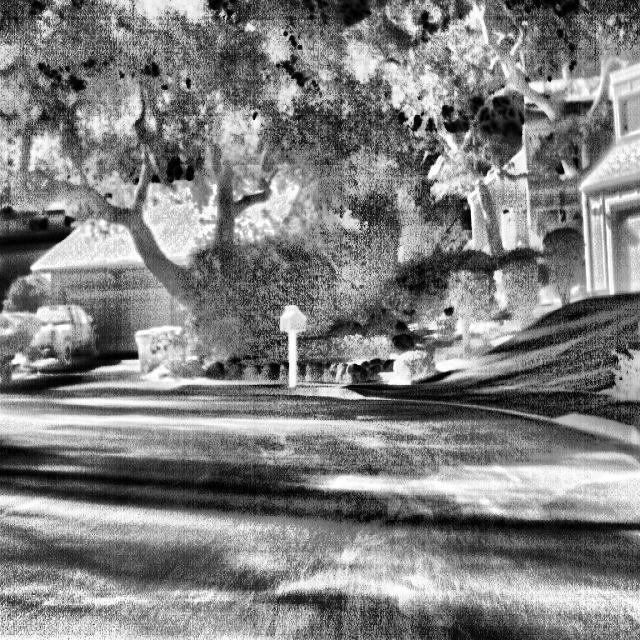car: (28, 294, 108, 377)
mail box: (270, 288, 326, 388)
